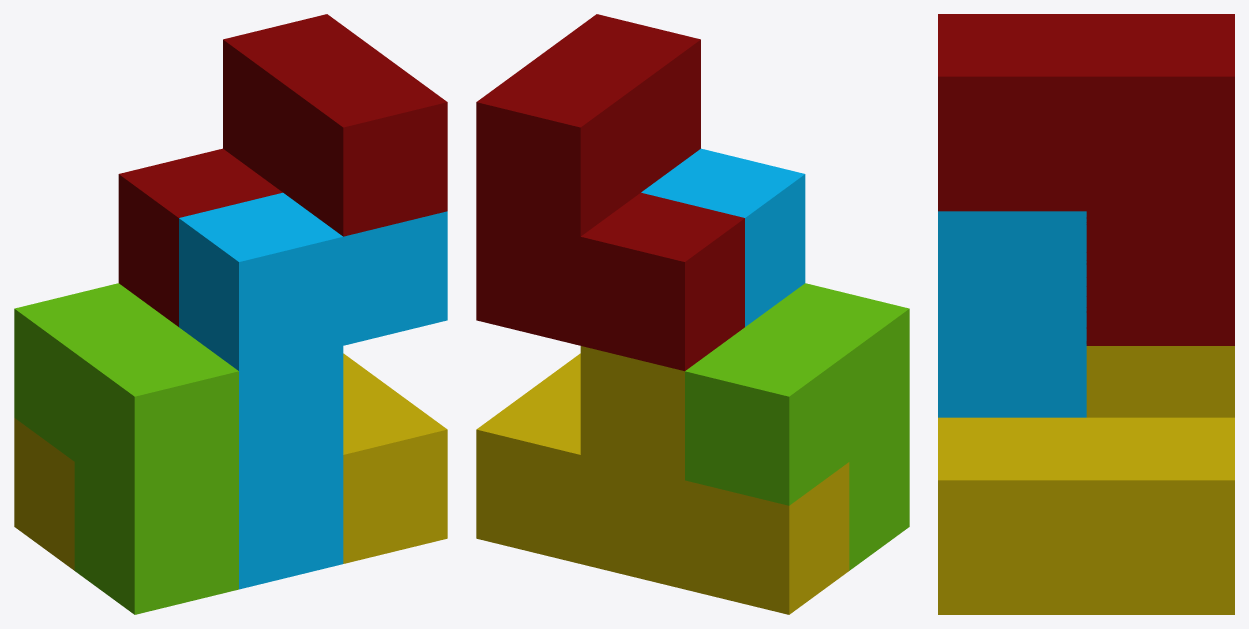
3 renders of one model, left to right at view 1: azimuth 30°, elevation 25°; view 2: azimuth 150°, elevation 25°; view 3: azimuth 270°, elevation 25°, orthographic. The views are drawn at different scales.
Parts seen in each view (by area): view 1: mergedBlocks(Clone); view 2: mergedBlocks(Clone); view 3: mergedBlocks(Clone).
Part boxes in pixels (box(x1,y1,x2,y2)): mergedBlocks(Clone): box(14, 14, 447, 614); mergedBlocks(Clone): box(476, 14, 909, 614); mergedBlocks(Clone): box(938, 14, 1234, 614).
Bounding box in the file's own units: 3 × 4 × 2.
Materials: 4 (4 with a texture image).
